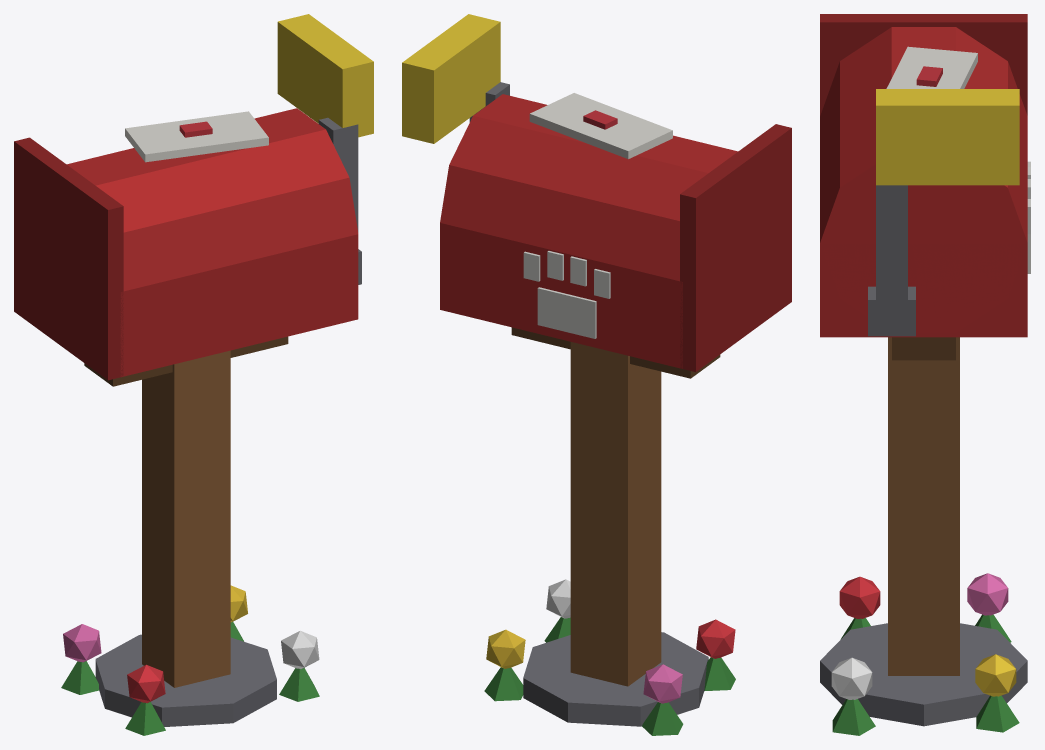
File: Decor_LittleHouse_Mailbox.fbx
3 renders of one model, left to right at view 1: azimuth 30°, elevation 25°; view 2: azimuth 150°, elevation 25°; view 3: azimuth 270°, elevation 25°, orthographic. The views are drawn at different scales.
Parts seen in each view (by area): view 1: Mailbox_Box, Mailbox_Body; view 2: Mailbox_Box, Mailbox_Body; view 3: Mailbox_Box, Mailbox_Body.
Boxes of the visible parts, left/top/right/bottom form: Mailbox_Box: left=14, top=14, right=373, bottom=380; Mailbox_Body: left=61, top=336, right=319, bottom=735; Mailbox_Box: left=402, top=14, right=791, bottom=372; Mailbox_Body: left=484, top=327, right=735, bottom=735; Mailbox_Box: left=820, top=14, right=1030, bottom=337; Mailbox_Body: left=820, top=337, right=1027, bottom=735.
Size of the model in its own units: 4.65 by 9.2 by 2.64.
